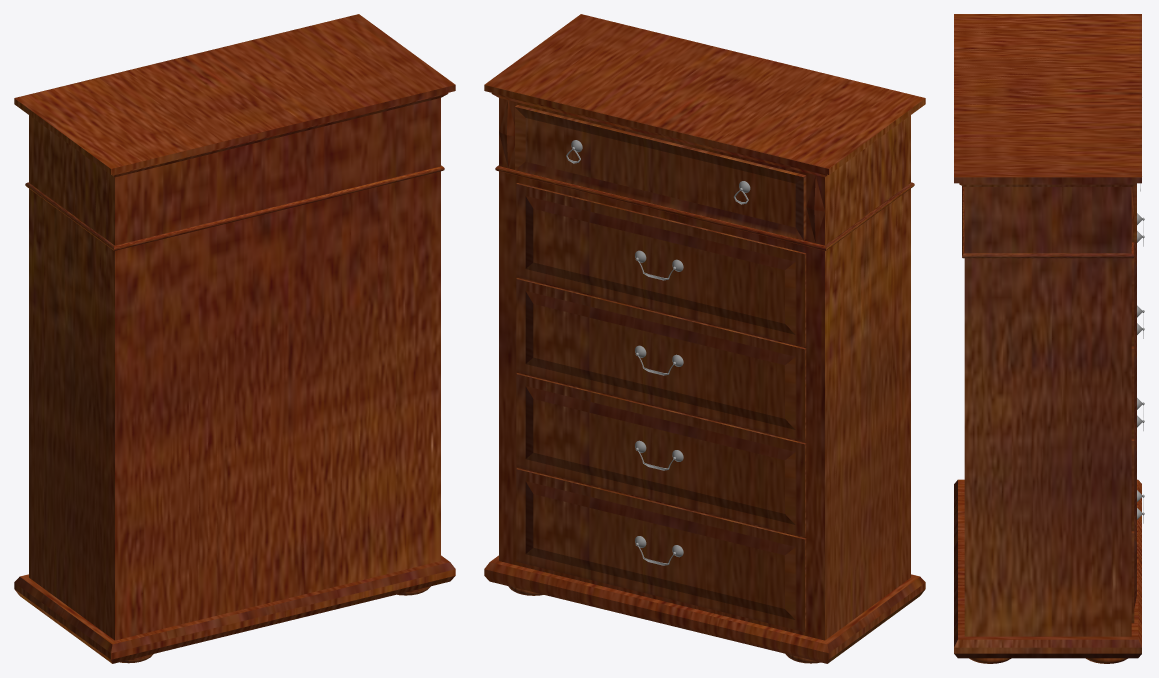
The picture shows the model from 3 angles, left to right: view 1: azimuth 30°, elevation 25°; view 2: azimuth 150°, elevation 25°; view 3: azimuth 270°, elevation 25°; orthographic projection. The views are drawn at different scales.
Visible parts, largest first — view 1: mesh1_mesh1-geometry; view 2: mesh1_mesh1-geometry, mesh17_mesh17-geometry, mesh9_mesh9-geometry; view 3: mesh1_mesh1-geometry, mesh17_mesh17-geometry, mesh20_mesh20-geometry.
Boxes of the visible parts, bbox=[...] form: mesh1_mesh1-geometry: bbox=[14, 14, 455, 663]; mesh1_mesh1-geometry: bbox=[484, 14, 925, 663]; mesh17_mesh17-geometry: bbox=[516, 183, 806, 631]; mesh9_mesh9-geometry: bbox=[515, 105, 806, 240]; mesh1_mesh1-geometry: bbox=[954, 14, 1141, 658]; mesh17_mesh17-geometry: bbox=[1131, 242, 1136, 623]; mesh20_mesh20-geometry: bbox=[969, 658, 1127, 663].
Bounding box in the file's own units: 0.5574 × 0.7833 × 0.2751.
